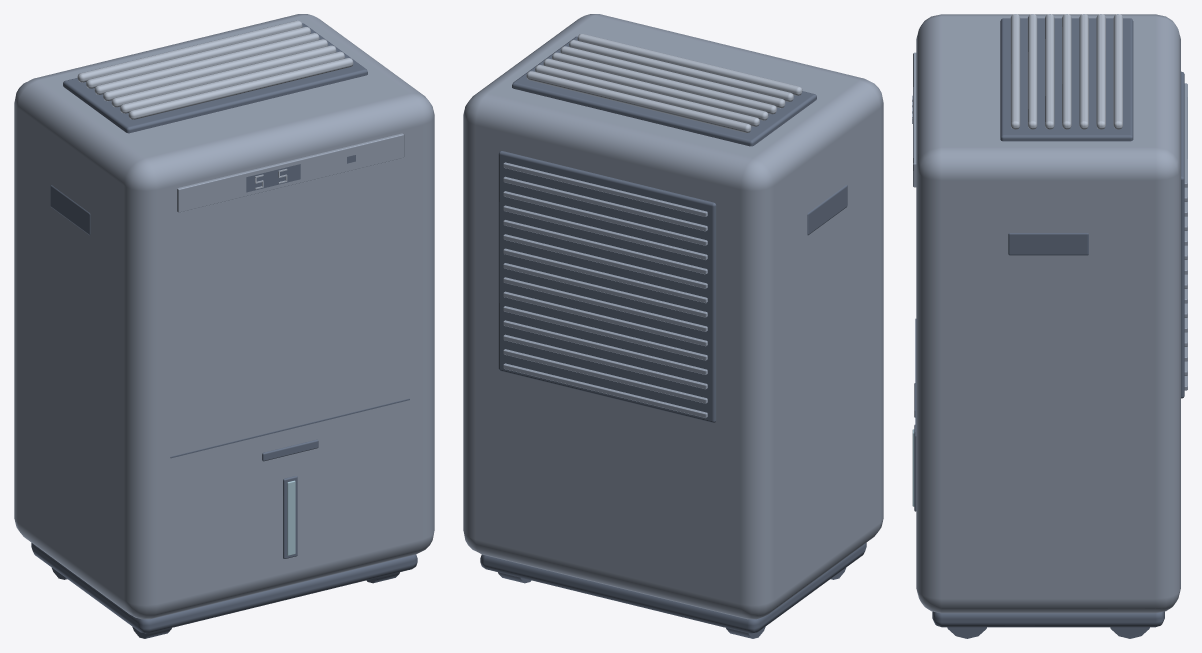
File: dehumidifier-lite.glb
3 renders of one model, left to right at view 1: azimuth 30°, elevation 25°; view 2: azimuth 150°, elevation 25°; view 3: azimuth 270°, elevation 25°, orthographic.
Parts seen in each view (by area): view 1: dehumidifier; view 2: dehumidifier; view 3: dehumidifier.
Boxes of the visible parts, <box> form: dehumidifier: <box>14,14,434,638</box>; dehumidifier: <box>463,14,883,638</box>; dehumidifier: <box>912,14,1187,638</box>.
Size of the model in its own units: 0.34 by 0.53 by 0.26.
